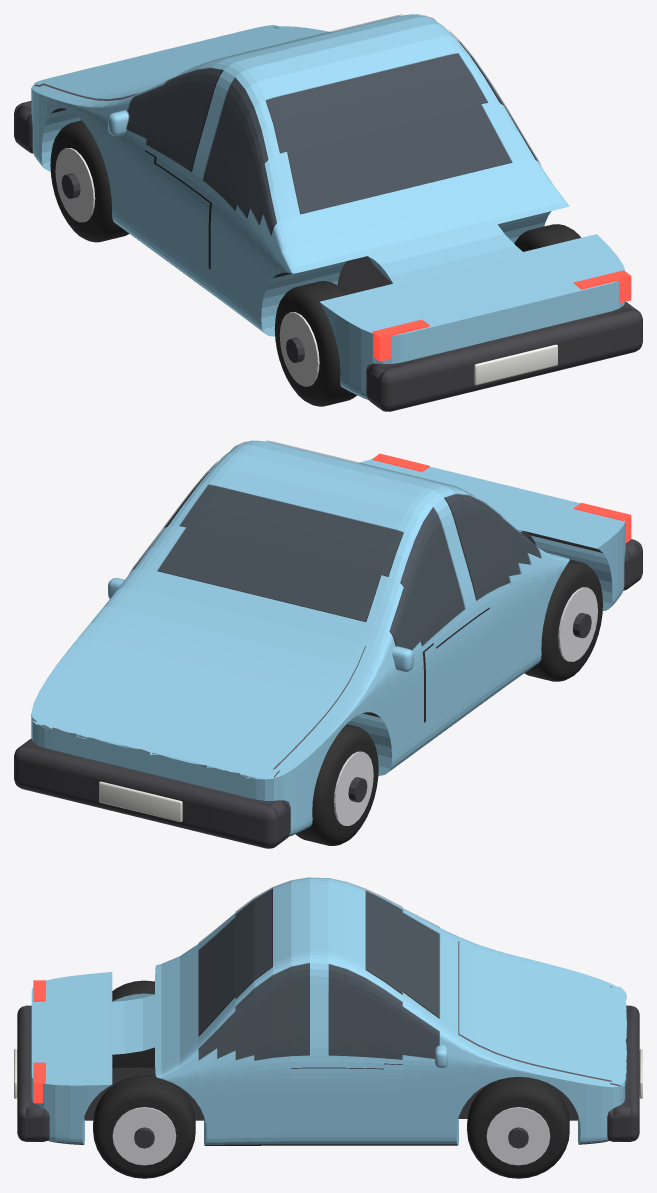
File: car_bubbles.glb
3 views of the same model, one above another, from view 1: azimuth 30°, elevation 25°; view 2: azimuth 150°, elevation 25°; view 3: azimuth 270°, elevation 25° (orthographic). The views are drawn at different scales.
Parts seen in each view (by area): view 1: body, glass_r, glass_l, bumper_r, hood, wheel_rl, wheel_fl, door_l, extra_plate_r, light_r, wheel_rr, bumper_f; view 2: body, hood, glass_f, glass_l, bumper_f, wheel_fl, wheel_rl, door_l, extra_plate_f, light_r, bumper_r; view 3: body, hood, glass_r_side, wheel_rr, wheel_fr, door_r, glass_r, glass_f, bumper_r, bumper_f, wheel_rl, light_r.
Part boxes in pixels (x1,y1,x2,y2): body: (31, 14, 625, 399); glass_r: (266, 53, 512, 213); glass_l: (126, 67, 276, 234); bumper_r: (366, 302, 642, 411); hood: (33, 25, 317, 99); wheel_rl: (274, 281, 356, 406); wheel_fl: (50, 120, 129, 242); door_l: (142, 150, 209, 269); extra_plate_r: (474, 344, 557, 385); light_r: (372, 270, 631, 361); wheel_rr: (514, 224, 581, 251); bumper_f: (14, 101, 33, 153); body: (31, 440, 625, 836); hood: (31, 589, 365, 780); glass_f: (157, 484, 403, 621); glass_l: (390, 493, 541, 650); bumper_f: (14, 739, 290, 848); wheel_fl: (295, 724, 378, 845); wheel_rl: (524, 559, 602, 681); door_l: (424, 608, 492, 722); extra_plate_f: (99, 781, 182, 822); light_r: (372, 453, 631, 542); bumper_r: (520, 531, 642, 590); body: (31, 877, 625, 1145); hood: (459, 940, 626, 1086); glass_r_side: (198, 962, 439, 1060); wheel_rr: (93, 1075, 195, 1178); wheel_fr: (467, 1077, 569, 1178); door_r: (291, 1064, 402, 1124); glass_r: (198, 888, 272, 1035); glass_f: (366, 890, 440, 1017); bumper_r: (17, 1005, 49, 1141); bumper_f: (607, 1005, 639, 1141); wheel_rl: (112, 980, 154, 1067); light_r: (33, 980, 45, 1103).
Size of the model in its own units: 1.81 by 1.45 by 3.92.
